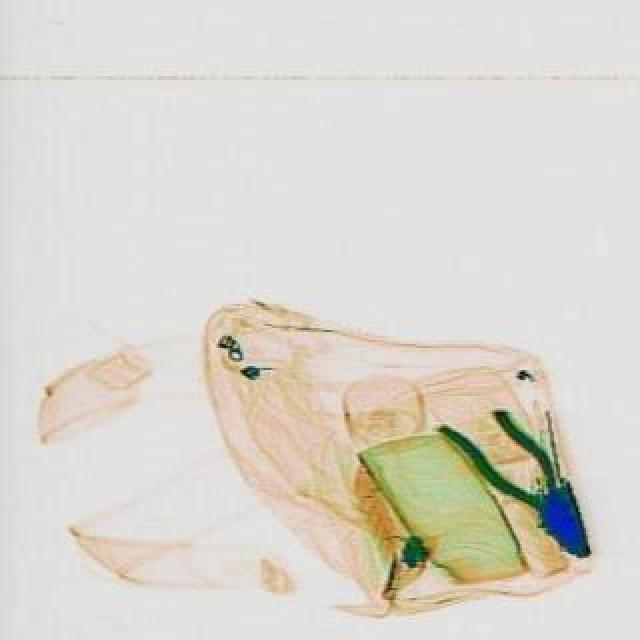wrench: (434, 388, 614, 576)
